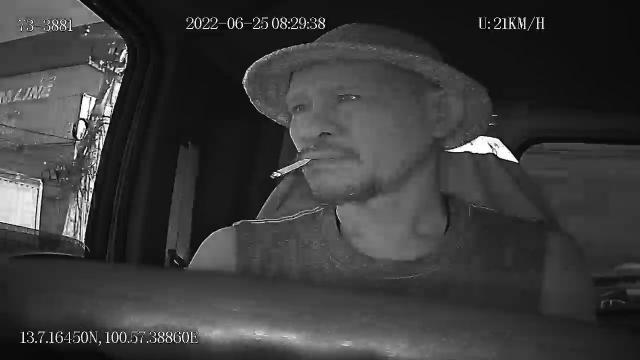SafeDriving: (330, 86, 368, 108), (288, 97, 316, 118)
Smoking: (270, 155, 312, 179)
